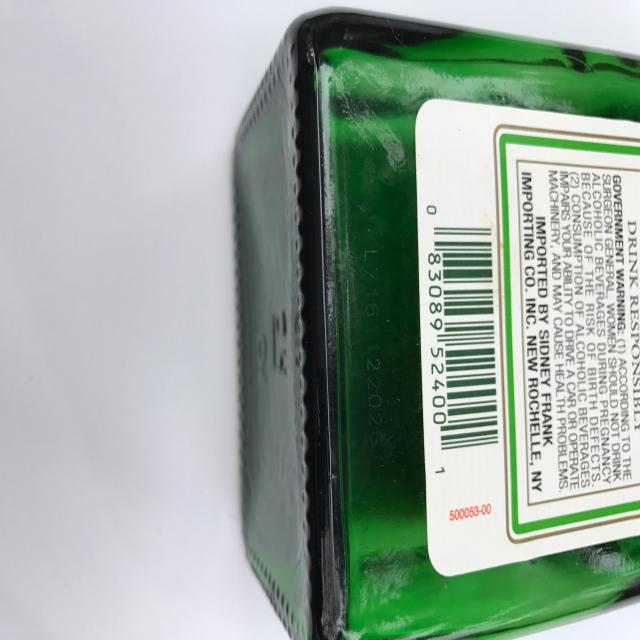glass: (232, 6, 639, 638)
